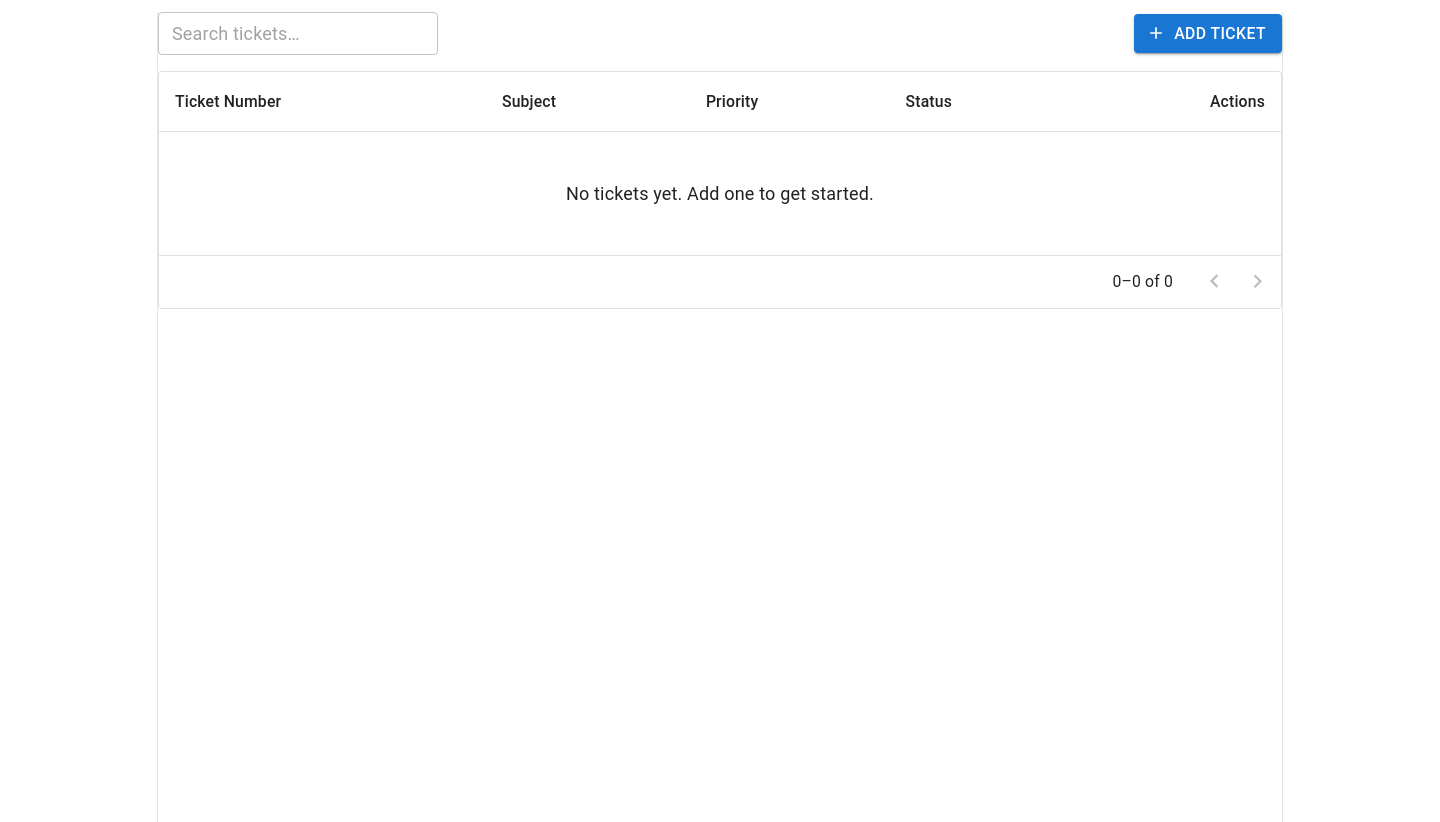
TicketListPage › shows no-match message when search returns empty
Type "xyz" into the field with placeholder "Search tickets…" at (298, 33), box [158,12,438,55]
Wait 300 ms
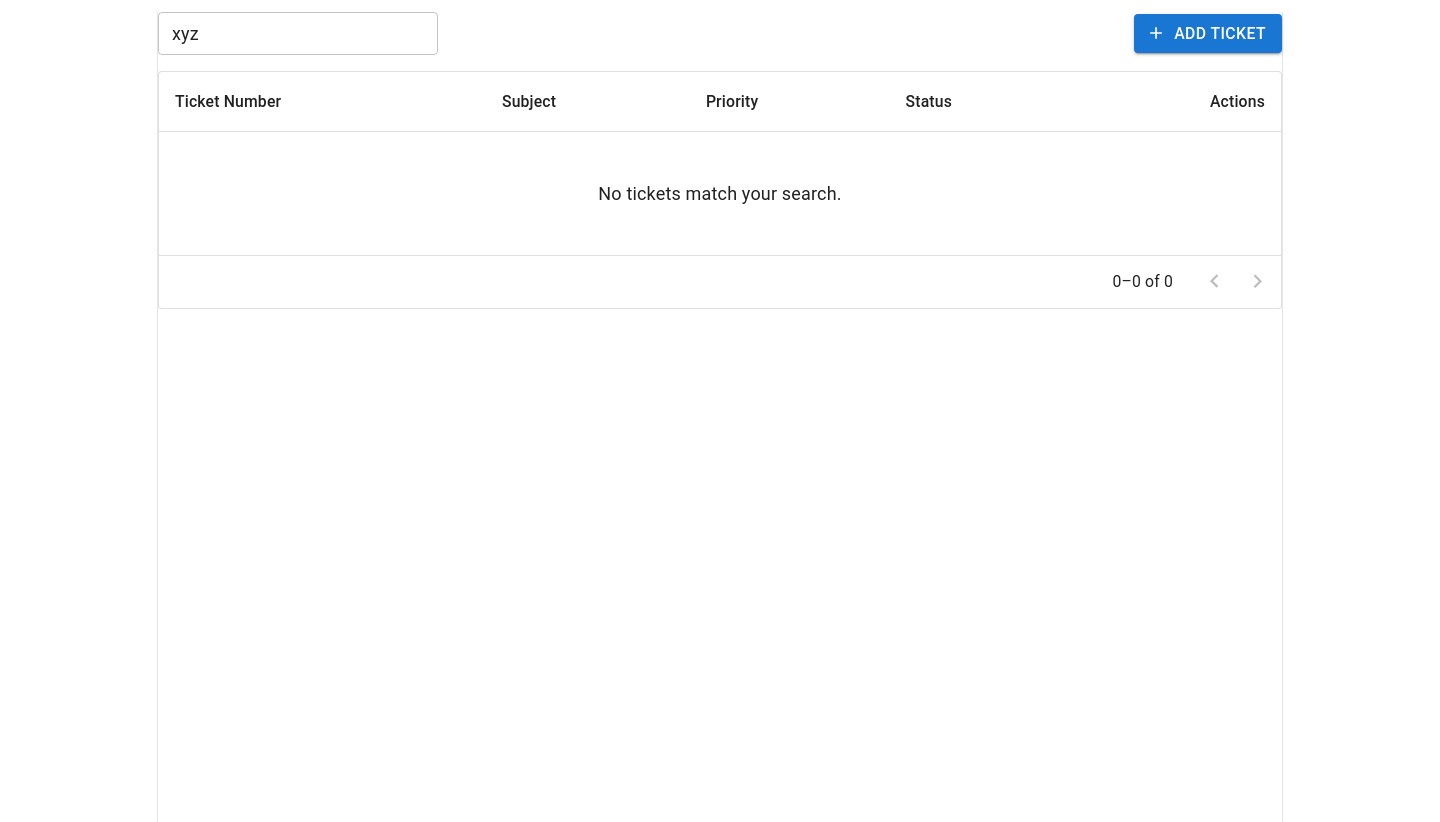
Result: the text "No tickets match your search." is shown at [598,183,842,204]
